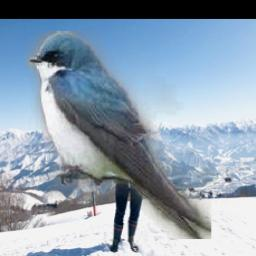Swallow: (26, 32, 211, 240)
